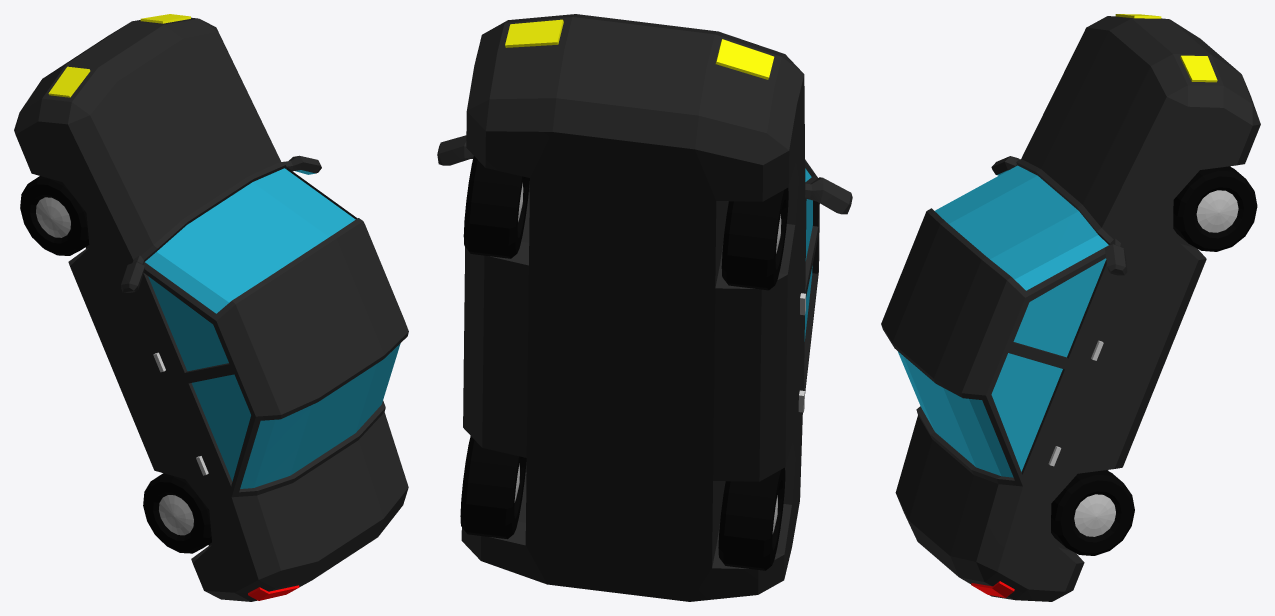
File: mesh_source.obj
The picture shows the model from 3 angles, left to right: view 1: azimuth 30°, elevation 25°; view 2: azimuth 150°, elevation 25°; view 3: azimuth 270°, elevation 25°; orthographic projection. The views are drawn at different scales.
Bounding box in the file's own units: 2.96 × 4.54 × 3.07.
